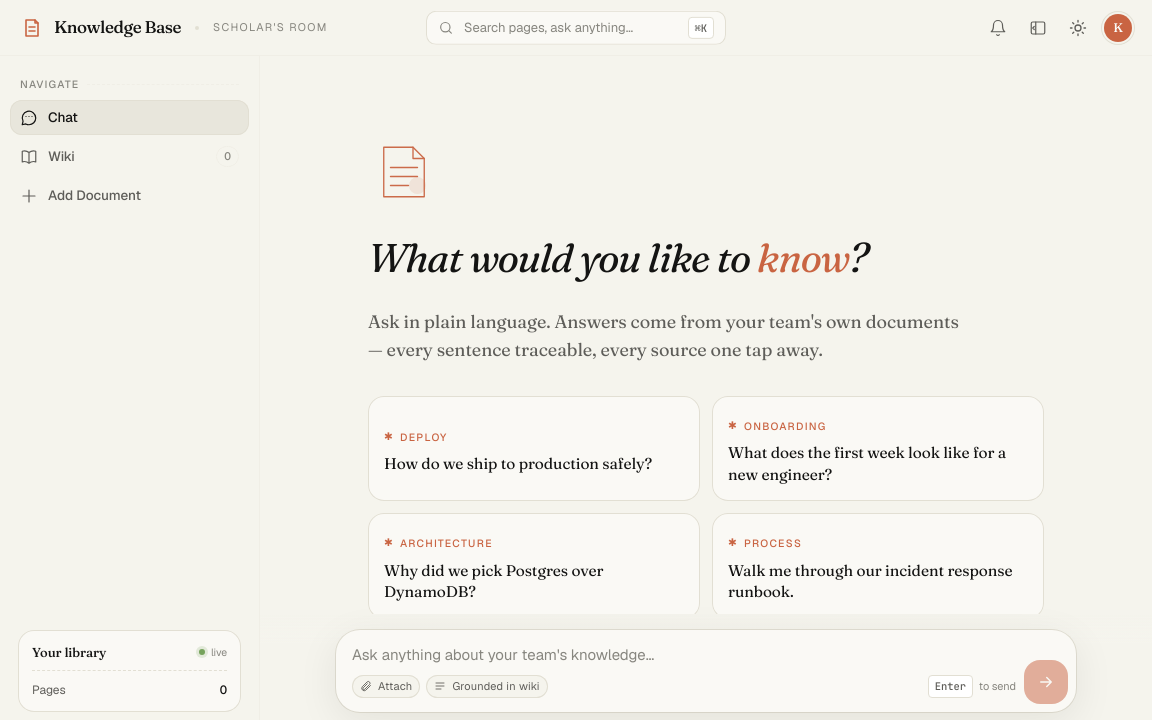
App ⌘K search › opens the search overlay when the header search button is clicked
Click the button "Search pages, ask anything… ⌘K".
click(576, 28)  # box [426,10,726,45]
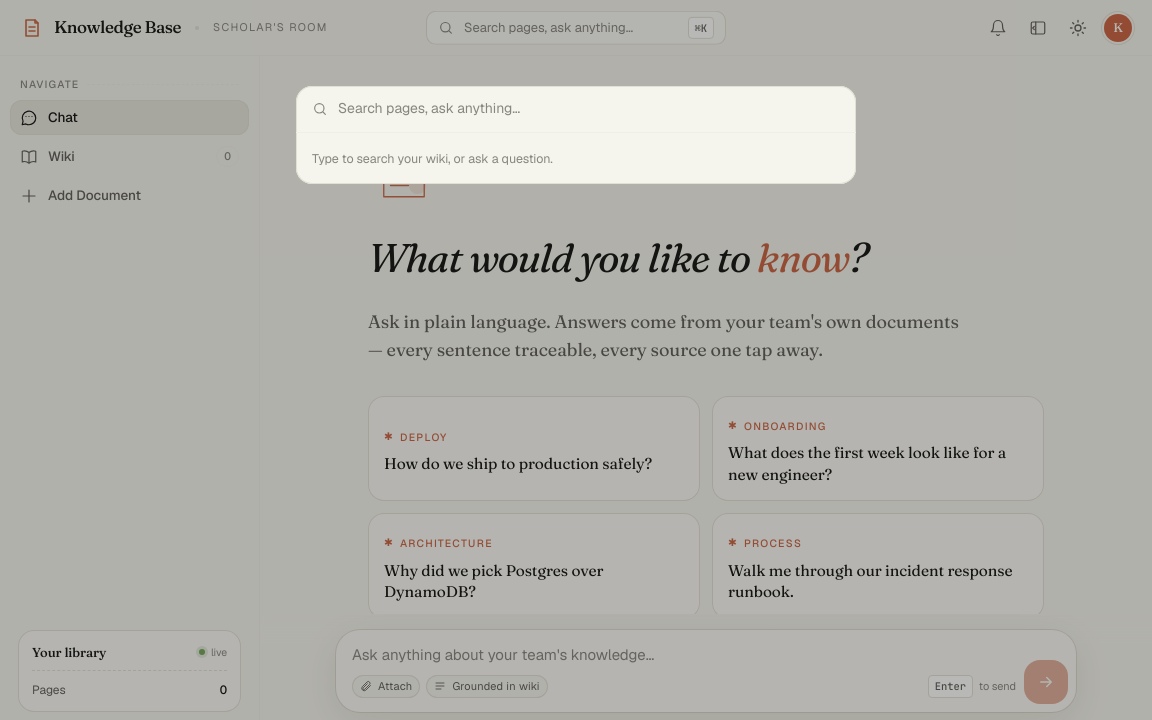
Expected: the dialog "search" is shown
